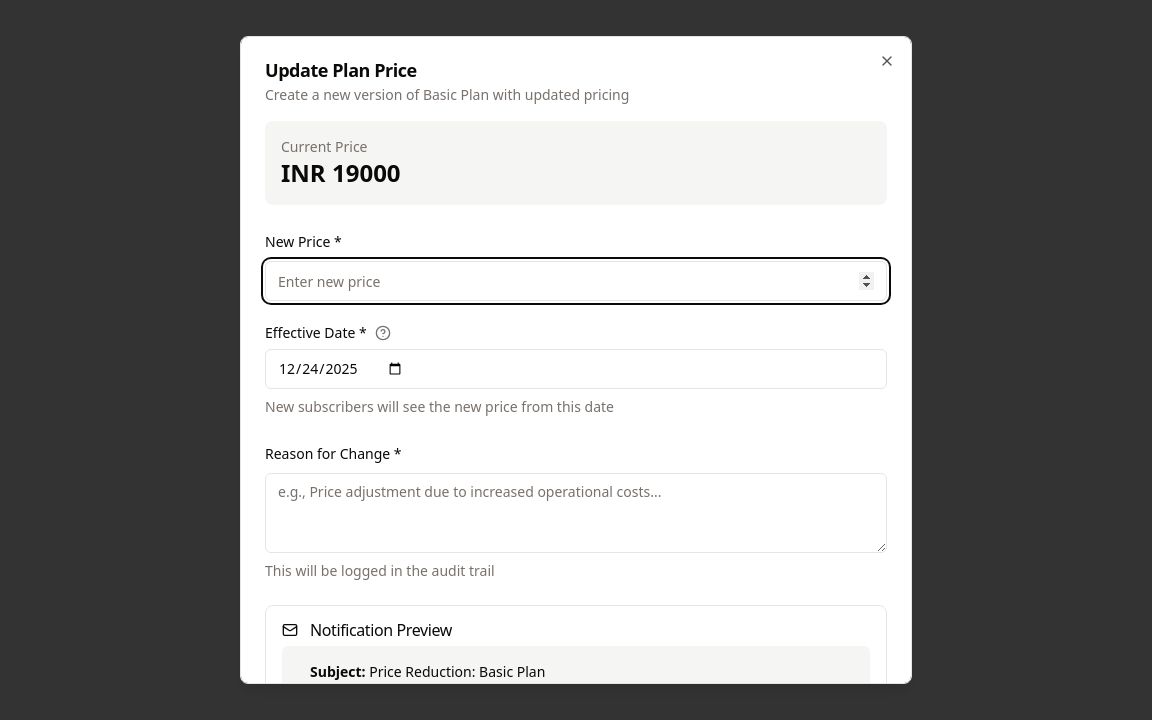
Scenario: PriceUpdateDialog › should calculate price decrease correctly
Type "15000" into the number field labelled "New Price *" at (576, 281), box [265,261,887,301]
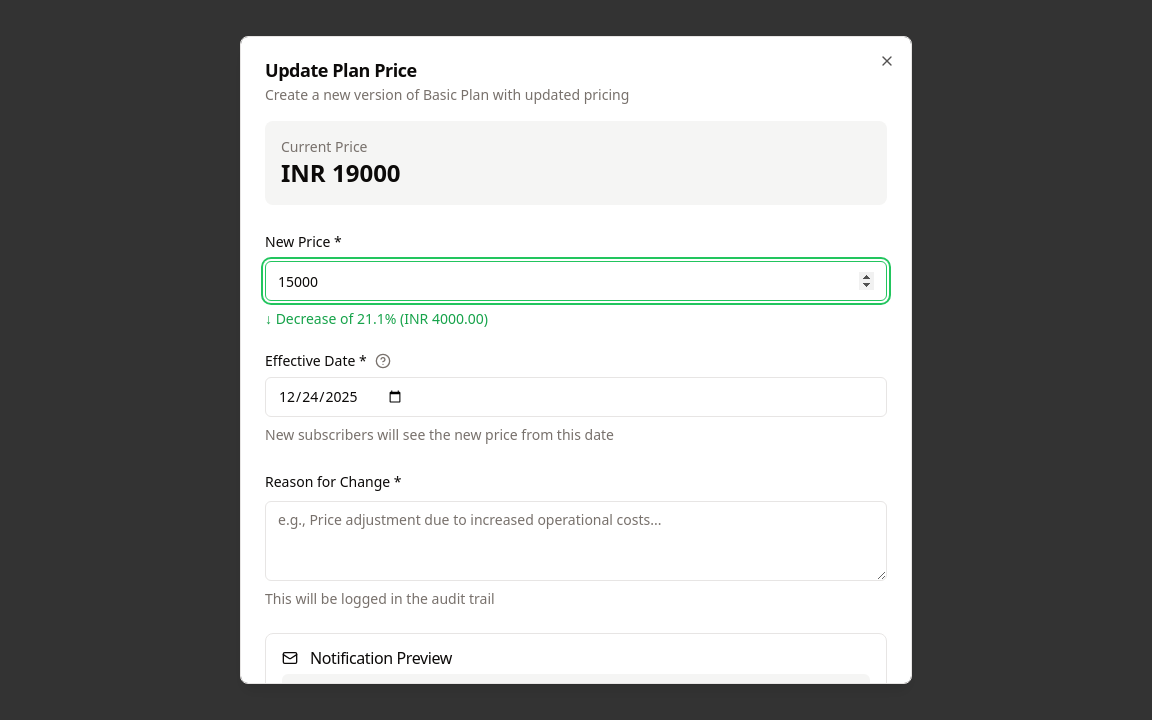
Expected: the text "↓ Decrease of 21.1% (INR 4000.00)" is shown, [265,309,488,328]
